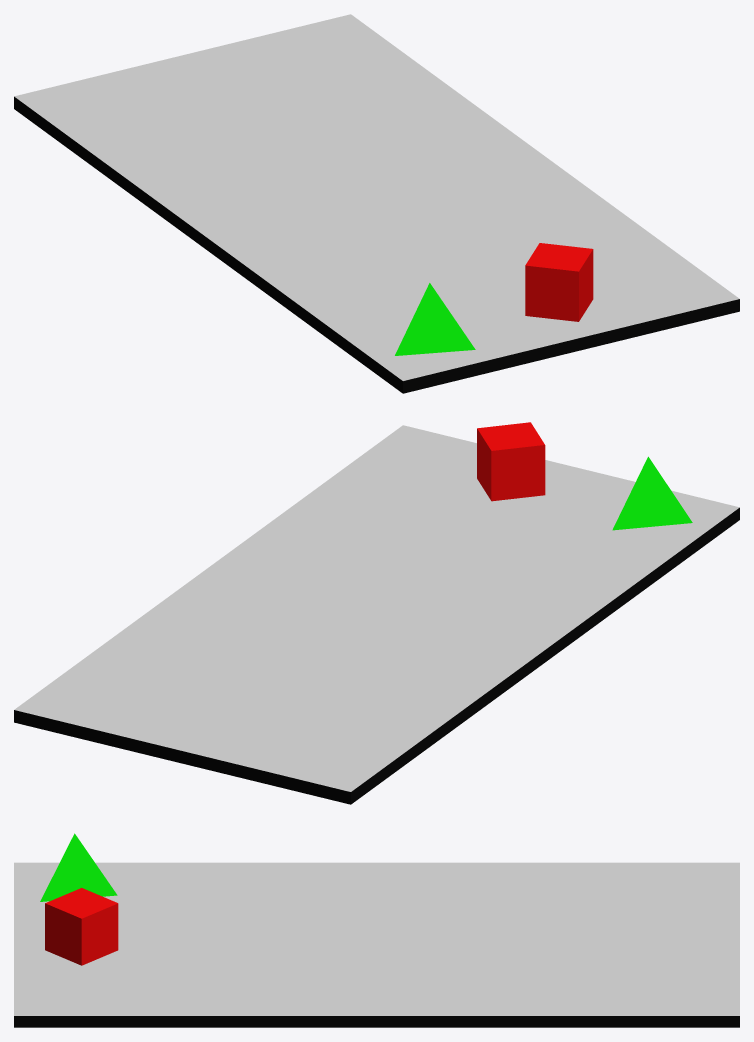
The model's file is Marker00.FBX.
3 views of the same model, one above another, from view 1: azimuth 30°, elevation 25°; view 2: azimuth 150°, elevation 25°; view 3: azimuth 270°, elevation 25° (orthographic). The views are drawn at different scales.
Parts seen in each view (by area): view 1: Box001; view 2: Box001; view 3: Box001.
Boxes of the visible parts, bbox=[...] form: Box001: bbox=[14, 14, 739, 393]; Box001: bbox=[14, 422, 739, 804]; Box001: bbox=[14, 833, 739, 1027].
Size of the model in its own units: 70 by 140 by 14.5.
